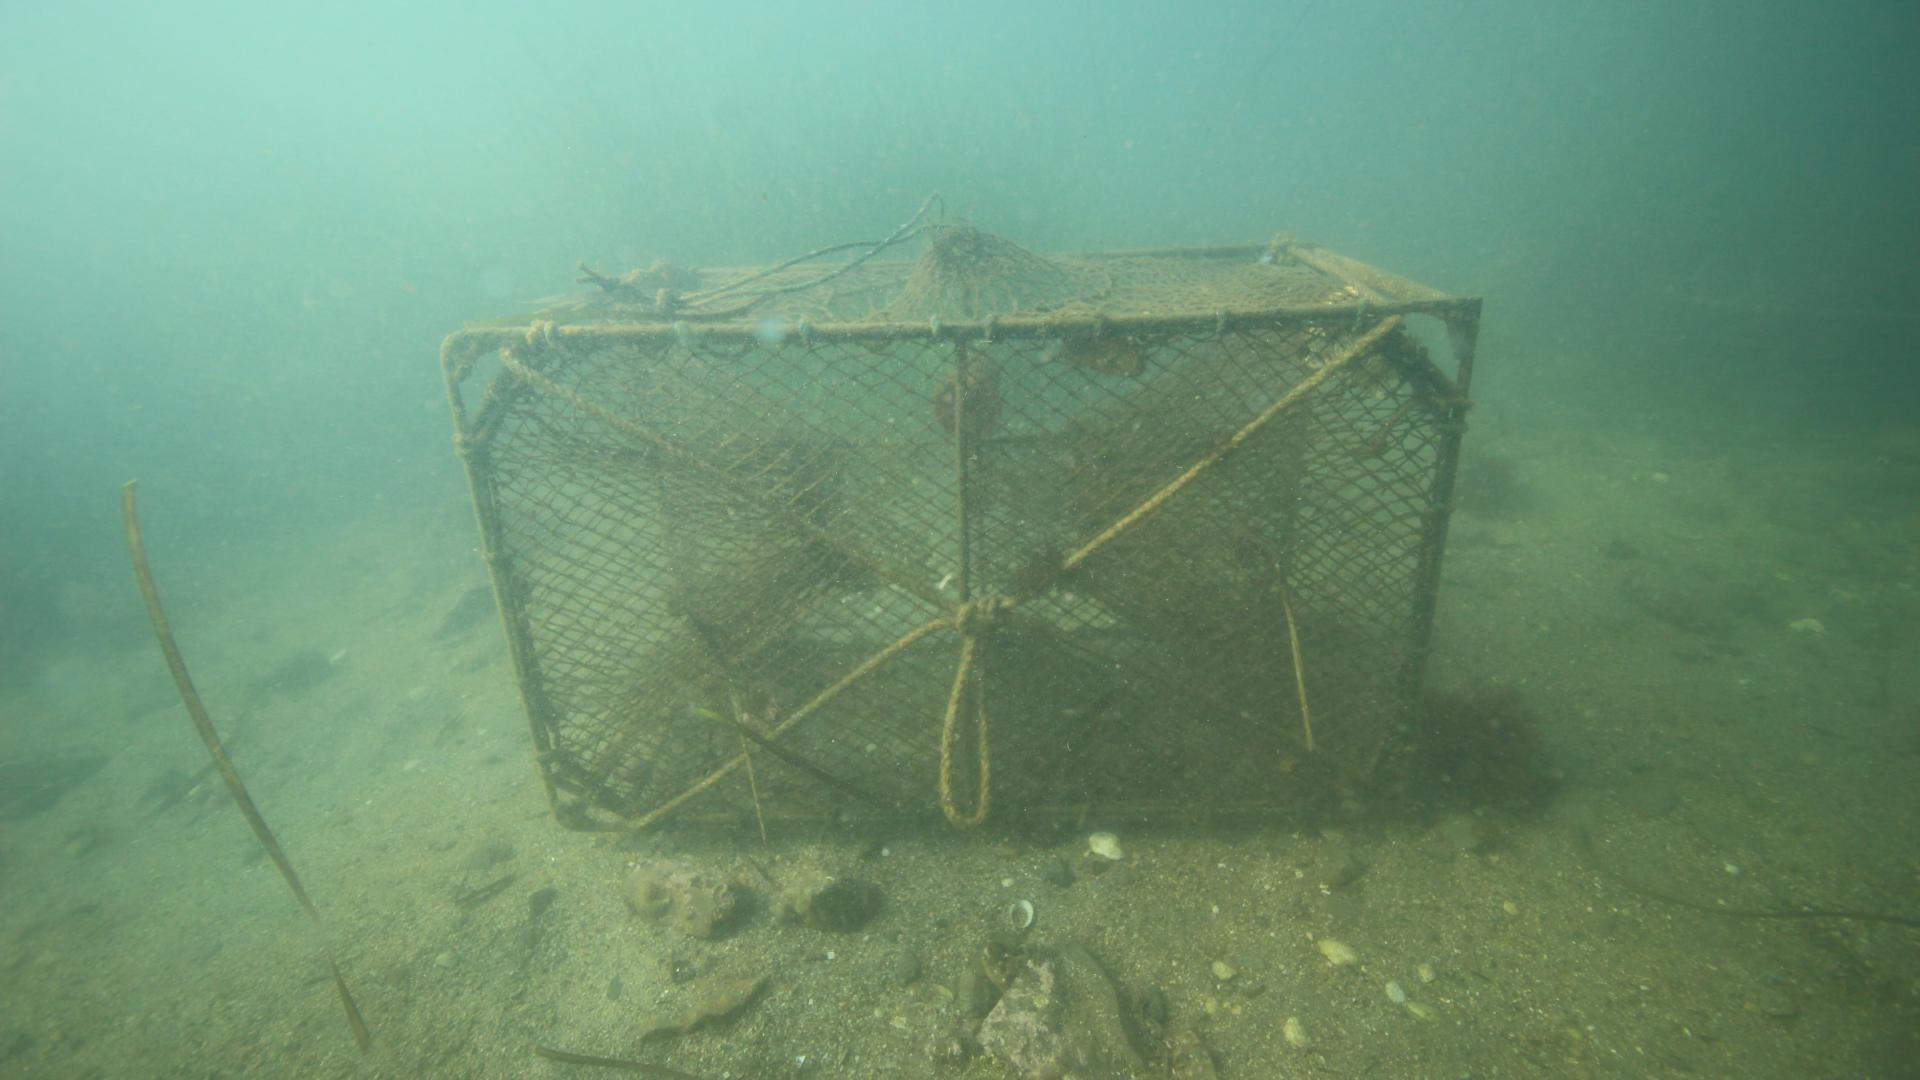rectangular fish trap: (435, 233, 1495, 841)
